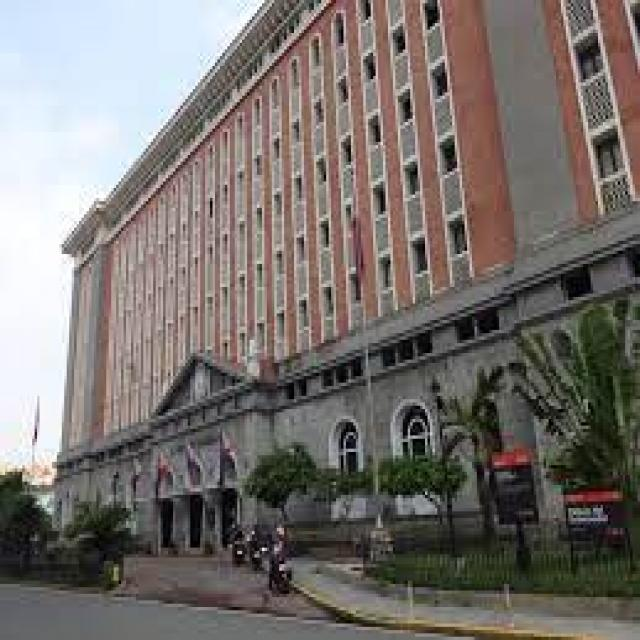Palacio de Gobernador: (55, 0, 640, 562)
